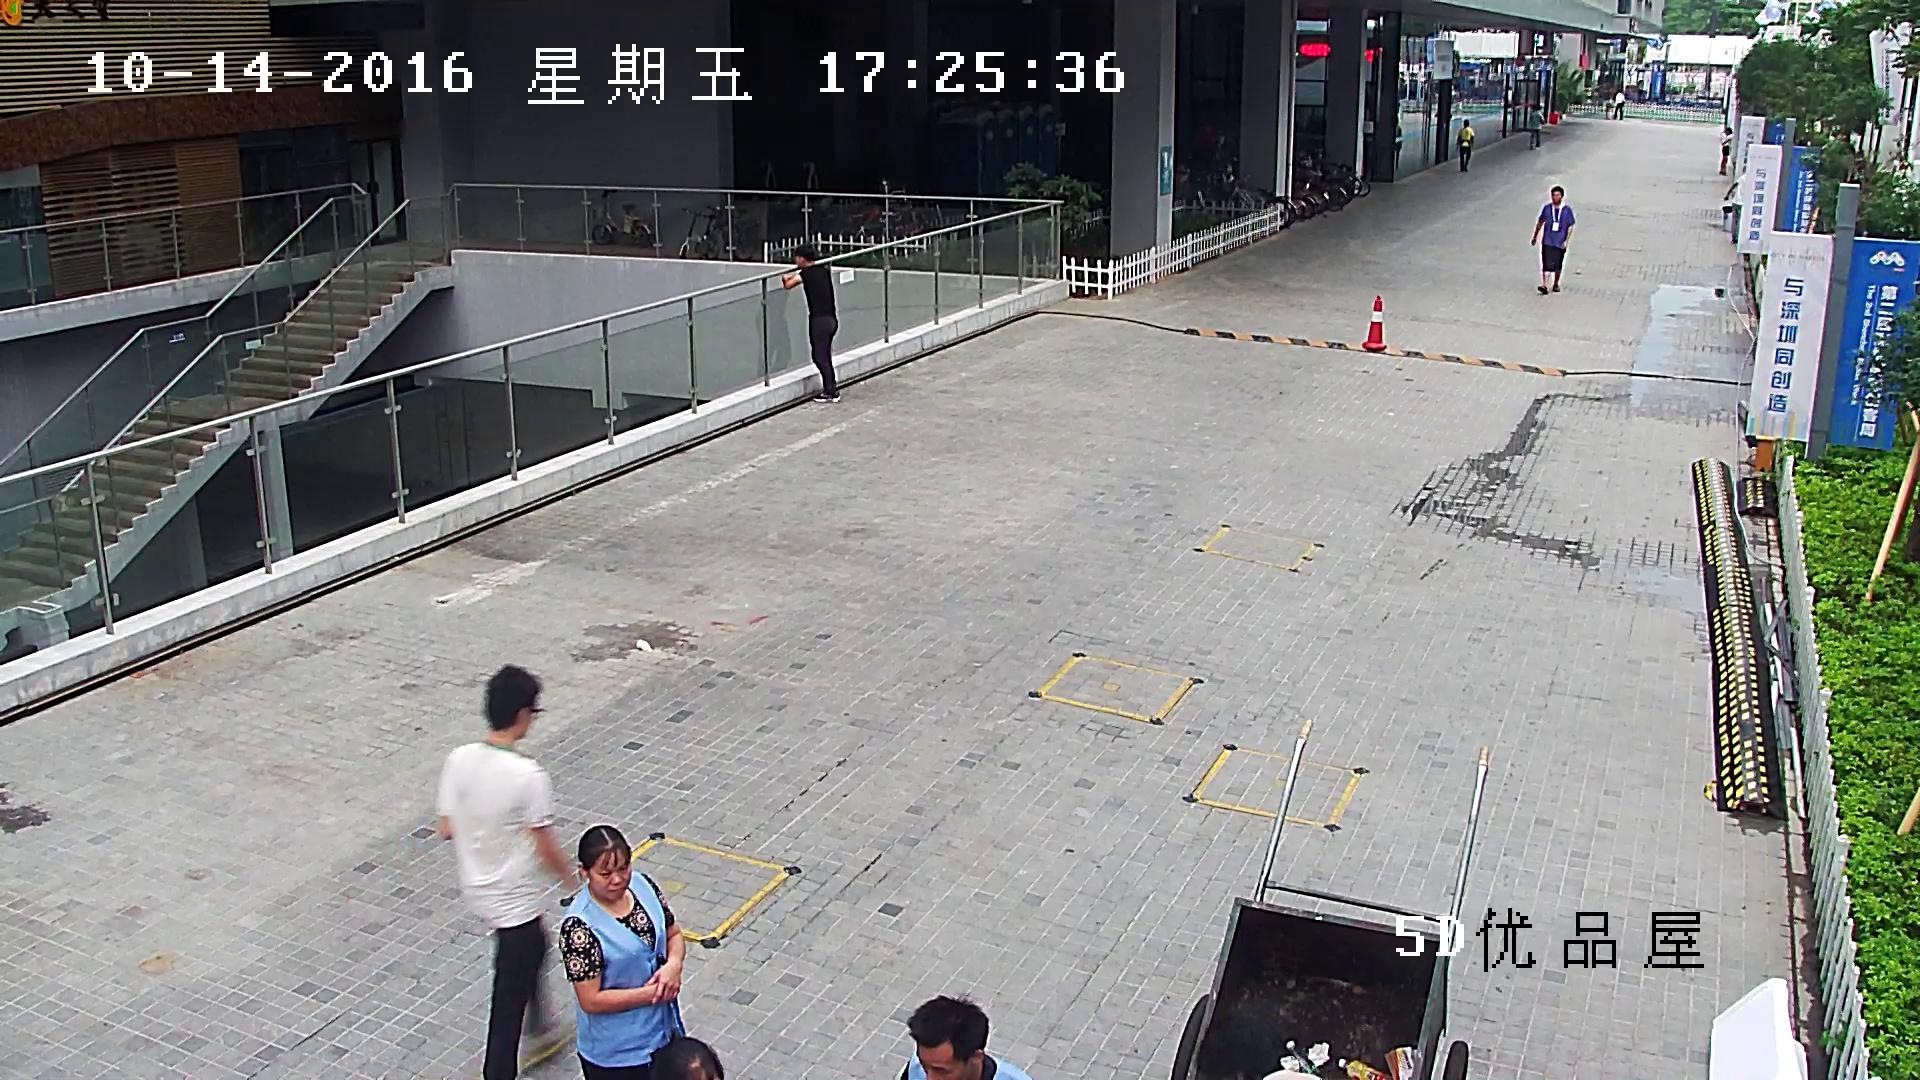person: (441, 665, 578, 1080), (557, 826, 685, 1080), (897, 997, 1032, 1080), (784, 244, 843, 401), (1531, 186, 1575, 294), (1723, 171, 1749, 244), (1457, 119, 1474, 172), (1719, 126, 1736, 176), (1529, 104, 1543, 149), (1612, 88, 1625, 120)
